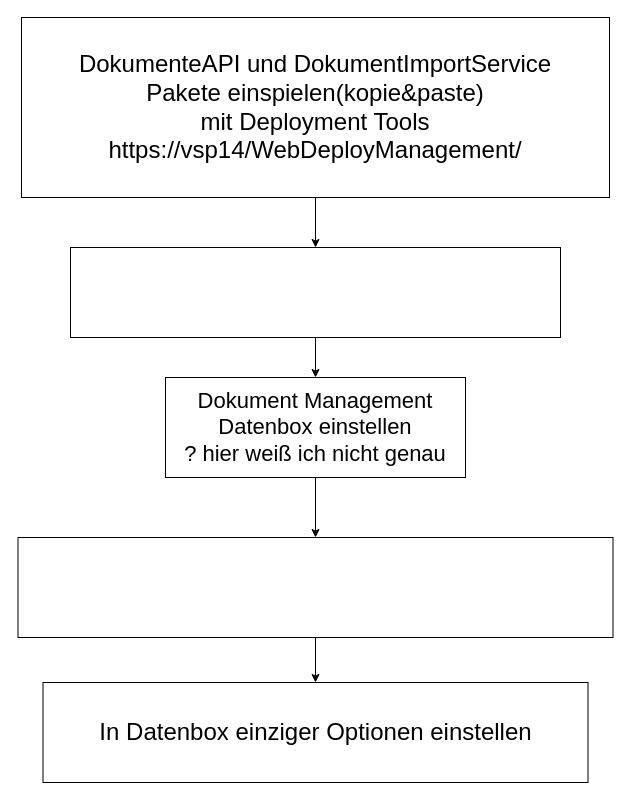
The diagram is 630 pixels wide and 800 high, and some of its shapes have lost their labels. The box of each missing label's shape, as (x1, y1, x2, y2) in pixels:
Module-> MaAkte aktivieren entsp. XML importieren: (70, 246, 560, 338)
Navigation ->Mainmenü->Dokumente ~/Begis.MaAkte/PayrollPortal#!#mydoc: (17, 536, 613, 638)
